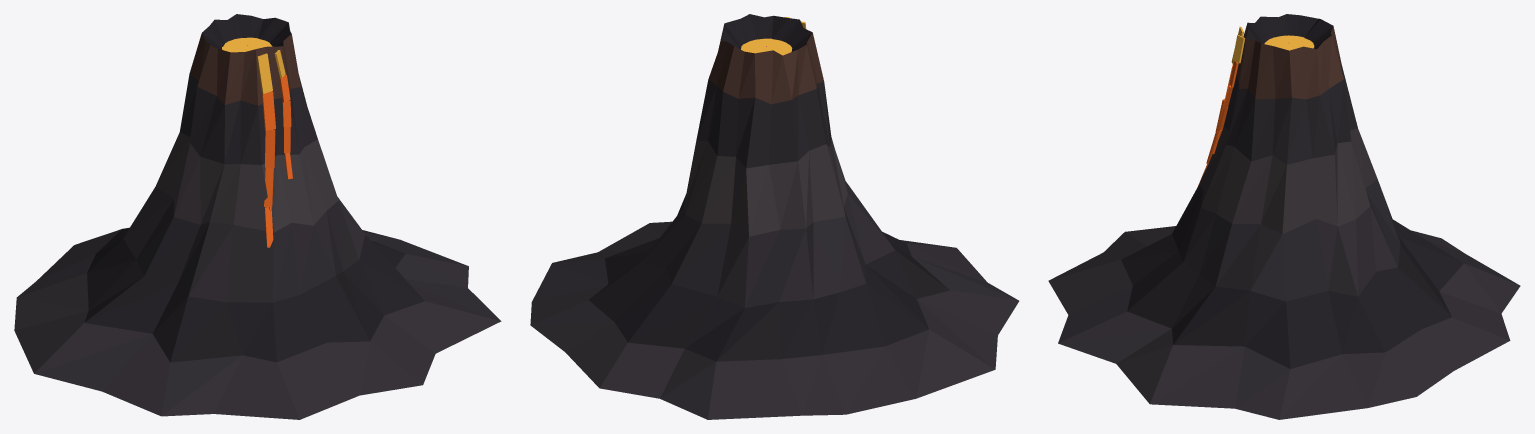
Rendered from Volcano.fbx.
3 views of the same model, side by side, from view 1: azimuth 30°, elevation 25°; view 2: azimuth 150°, elevation 25°; view 3: azimuth 270°, elevation 25° (orthographic).
Visible parts, largest first — view 1: Body, Lava; view 2: Body, Lava; view 3: Body, Lava.
Part boxes in pixels (box(x1,y1,x2,y2)): Body: box(14, 14, 501, 419); Lava: box(222, 37, 292, 247); Body: box(530, 14, 1019, 419); Lava: box(741, 17, 806, 55); Body: box(1048, 14, 1520, 419); Lava: box(1198, 26, 1314, 185).
Bounding box in the file's own units: 198 × 123 × 185.
1 material, 1 textured.
